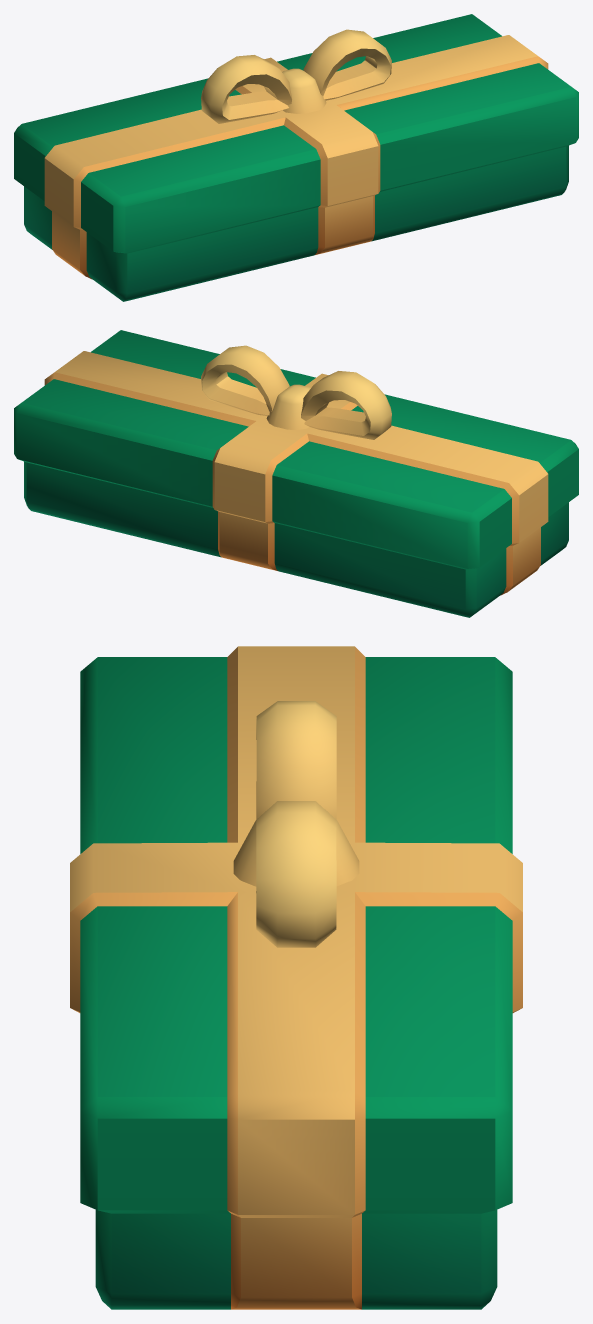
File: present_E_green.fbx
The picture shows the model from 3 angles, top to bottom: view 1: azimuth 30°, elevation 25°; view 2: azimuth 150°, elevation 25°; view 3: azimuth 270°, elevation 25°; orthographic projection. The views are drawn at different scales.
Parts seen in each view (by area): view 1: present_E_green; view 2: present_E_green; view 3: present_E_green.
Part boxes in pixels (x1,y1,x2,y2): present_E_green: (14, 14, 578, 301); present_E_green: (14, 330, 578, 617); present_E_green: (70, 646, 522, 1309).
Bounding box in the file's own units: 136 × 46.17 × 56.38.
